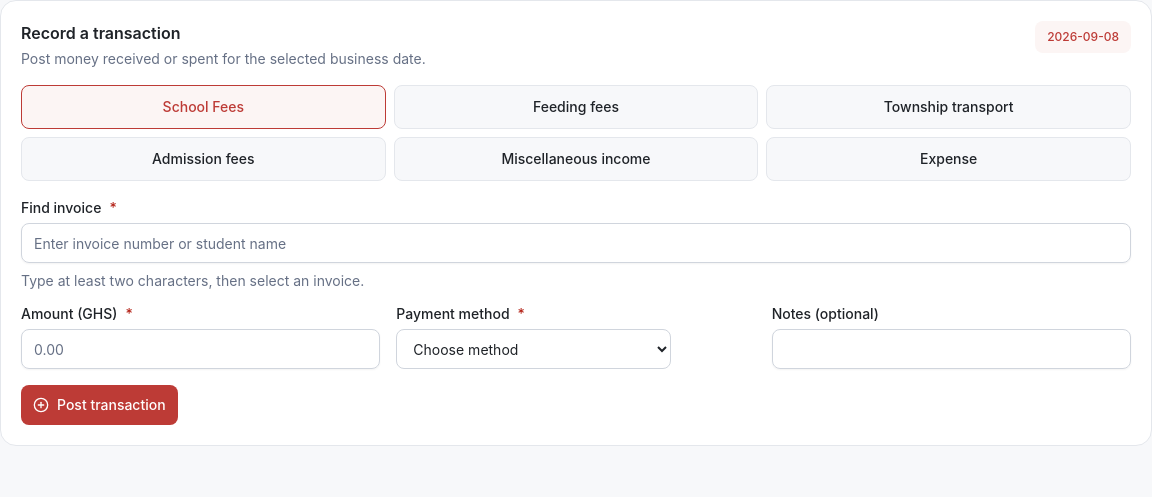
Test: daily cashflow entry › preserves inputs and the request key after an uncertain result, then resets on success
Click the button "Feeding fees" at (576, 107), box [394, 85, 758, 129]
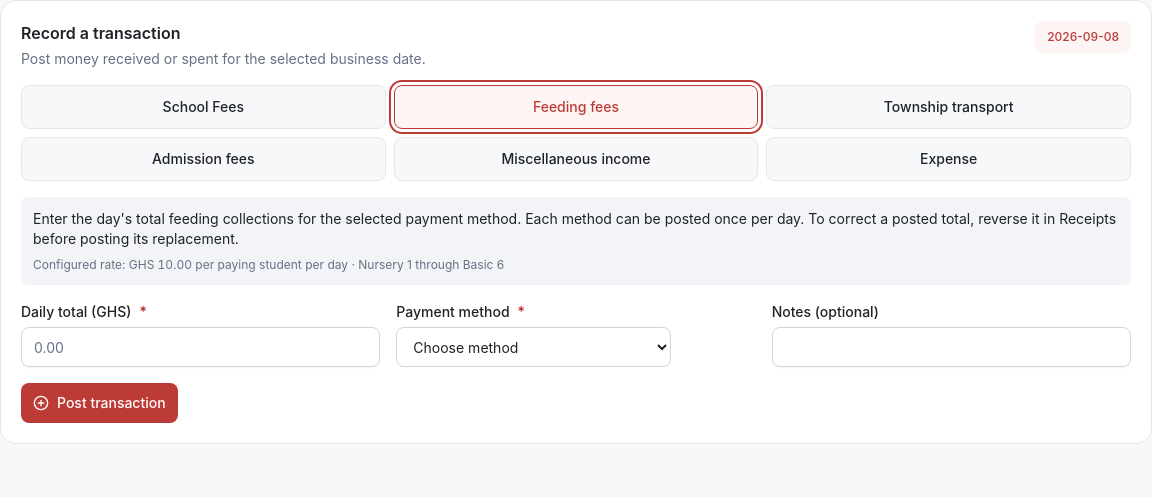
Type "100" into the field labelled "Daily total (GHS) *" at (201, 347), box [21, 327, 380, 367]
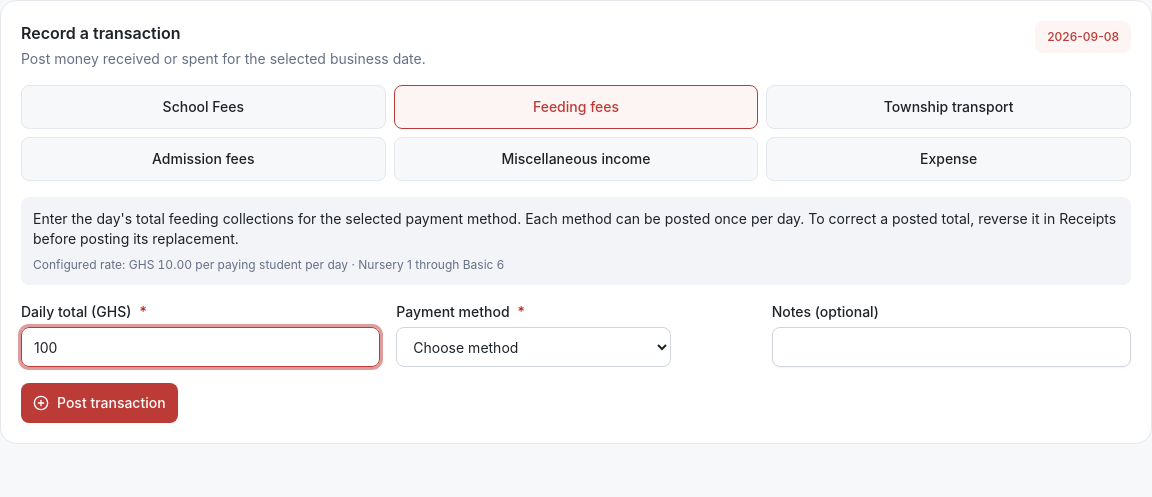
Select "Cash" in the dropdown labelled "Payment method *" at (534, 347), box [396, 327, 671, 367]
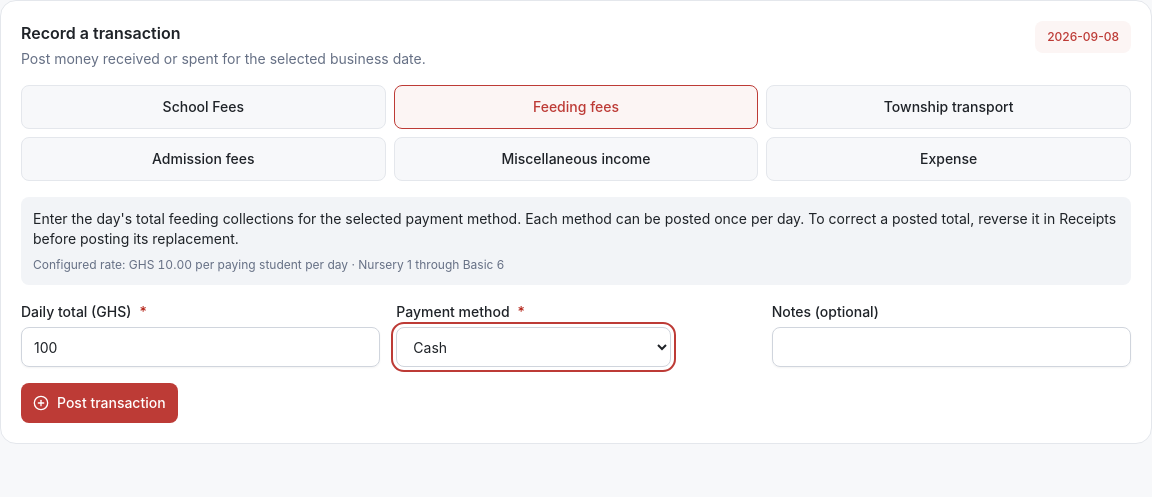
Click the button "Post transaction" at (99, 403), box [21, 383, 178, 423]
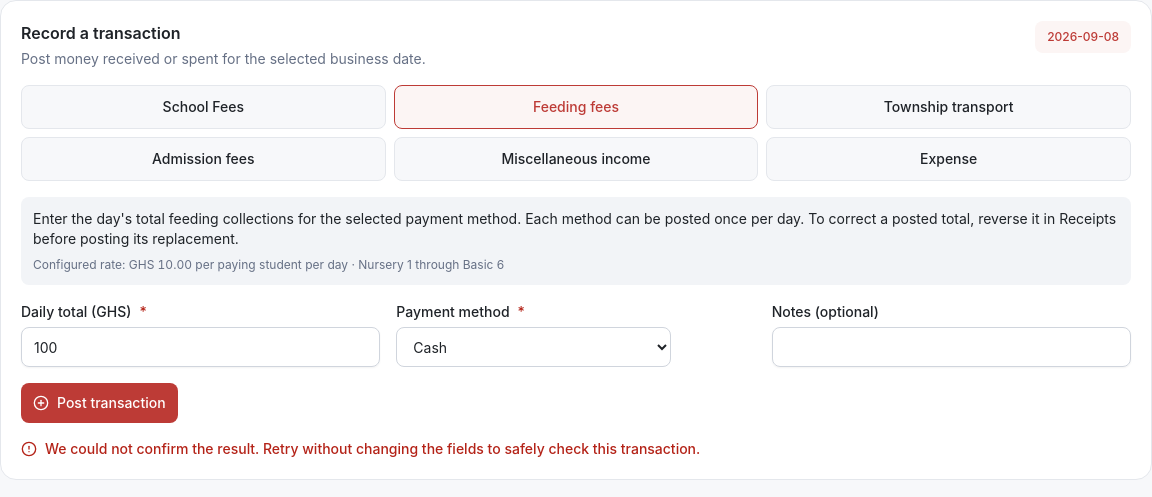
Now the message shows "Retry without changing", box [45, 440, 700, 457]
Click the button "Post transaction" at (99, 403), box [21, 383, 178, 423]
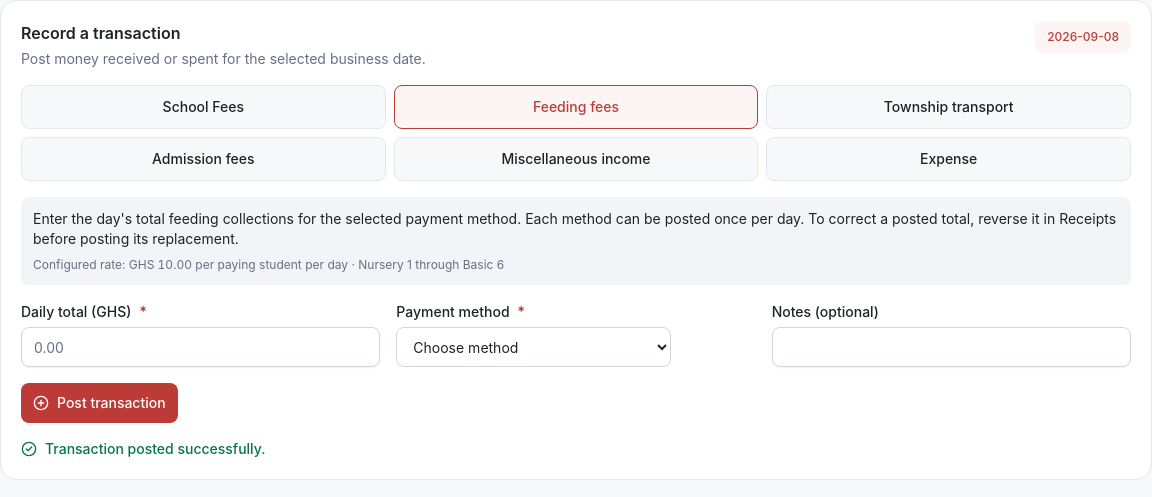
Now the message "Transaction posted successfully." is shown, box [21, 440, 266, 457]
Now the field labelled "Daily total (GHS) *" is empty, box [21, 327, 380, 367]
